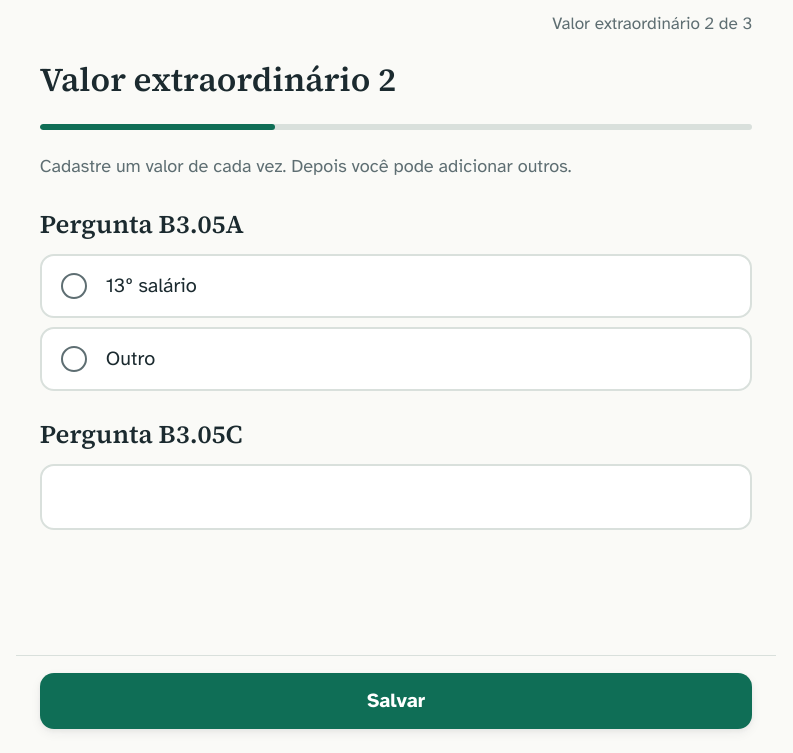
Test: T-320: nada em branco › campo sem resposta é destacado e nada é gravado
Type "x" into the field labelled "Pergunta B3.05C" at (396, 497), box [40, 464, 752, 530]
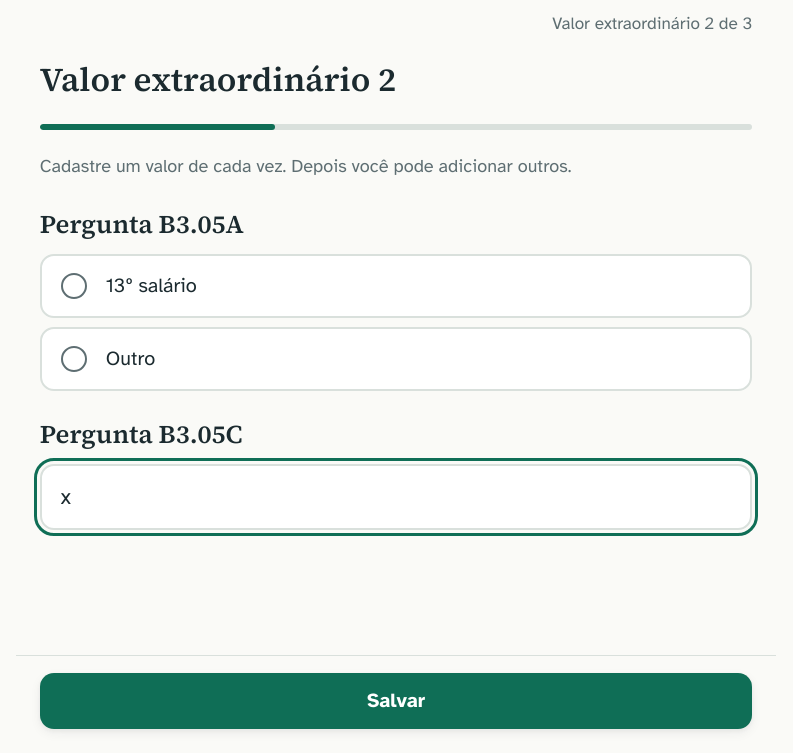
Click the button "Salvar" at (396, 701), box [40, 673, 752, 729]
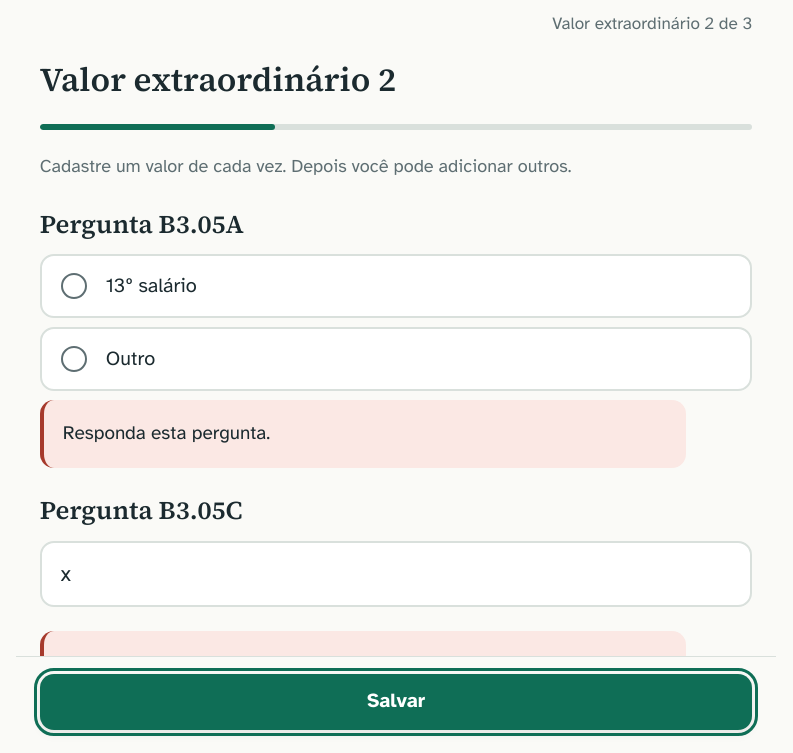
Expected: the text "Responda as perguntas destacadas antes de salvar." is shown, [40, 631, 686, 698]
Expected: the text "Responda esta pergunta." is shown once, [40, 400, 686, 468]
Note: Responder tira o destaque.
Click the radio button labelled "13º salário" at (151, 285), box [40, 254, 752, 318]
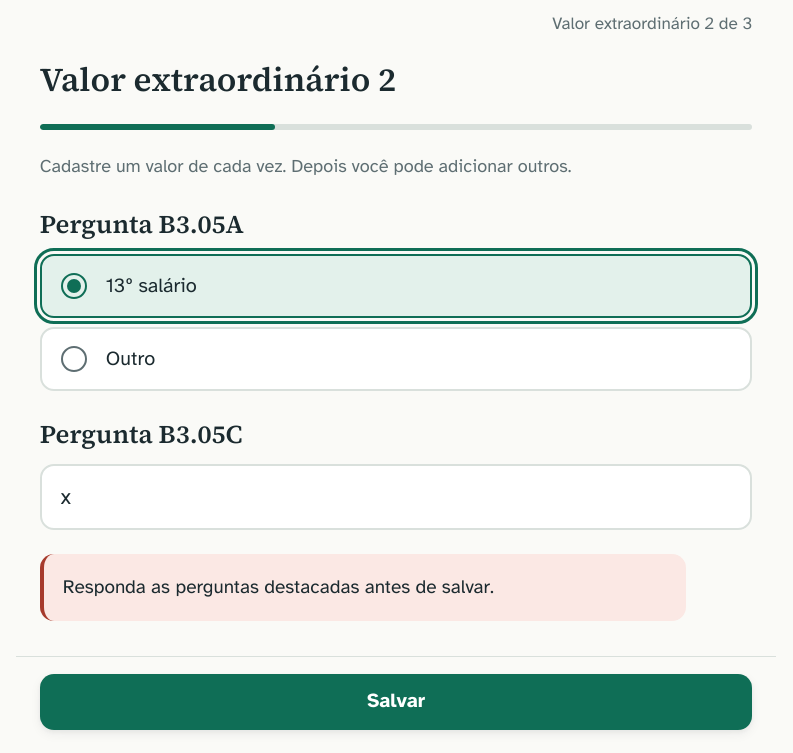
Expected: the text "Responda esta pergunta." is gone
